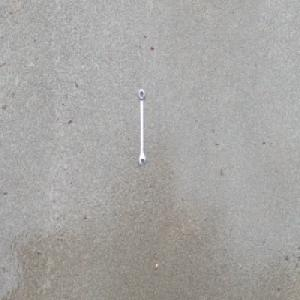Wrench: (137, 88, 146, 166)
